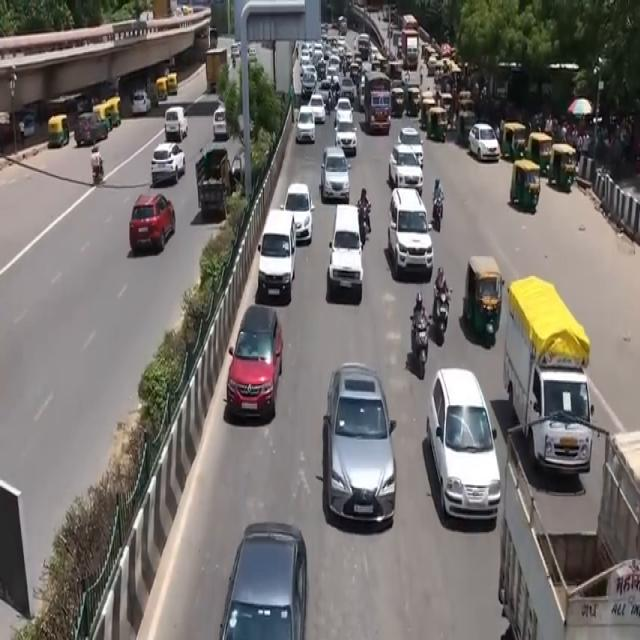BUS: (360, 71, 391, 133)
MOTORCYCLE: (410, 315, 430, 380), (433, 292, 452, 350)
TRUCK: (506, 284, 596, 491)
